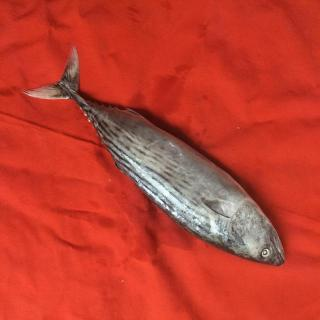Ikan: (25, 42, 291, 278)
